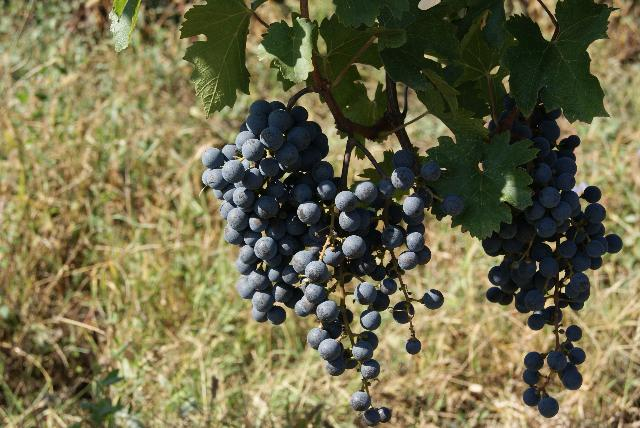grapes: (481, 85, 622, 418), (278, 155, 438, 379), (201, 100, 336, 324)
